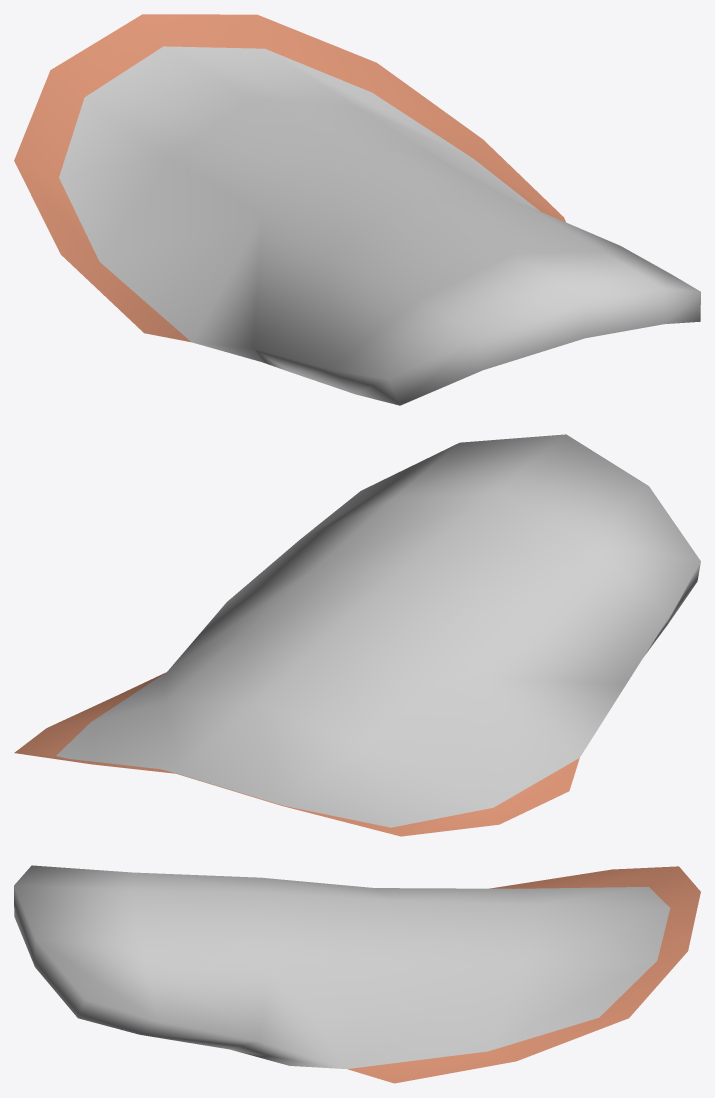
The model's file is orta-oval.obj.
3 renders of one model, top to bottom at view 1: azimuth 30°, elevation 25°; view 2: azimuth 150°, elevation 25°; view 3: azimuth 270°, elevation 25°, orthographic. The views are drawn at different scales.
Visible parts, largest first — view 1: 3._finger_oval_Female_Hand.006; view 2: 3._finger_oval_Female_Hand.006; view 3: 3._finger_oval_Female_Hand.006.
Part boxes in pixels (bbox=[...]): 3._finger_oval_Female_Hand.006: bbox=[14, 14, 700, 405]; 3._finger_oval_Female_Hand.006: bbox=[14, 434, 700, 836]; 3._finger_oval_Female_Hand.006: bbox=[14, 865, 700, 1083].
Bounding box in the file's own units: 0.0944 × 0.0286 × 0.1563.
